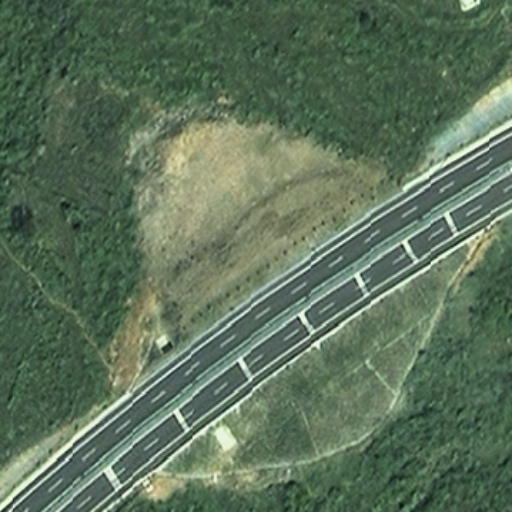landslide: (114, 104, 391, 383)
